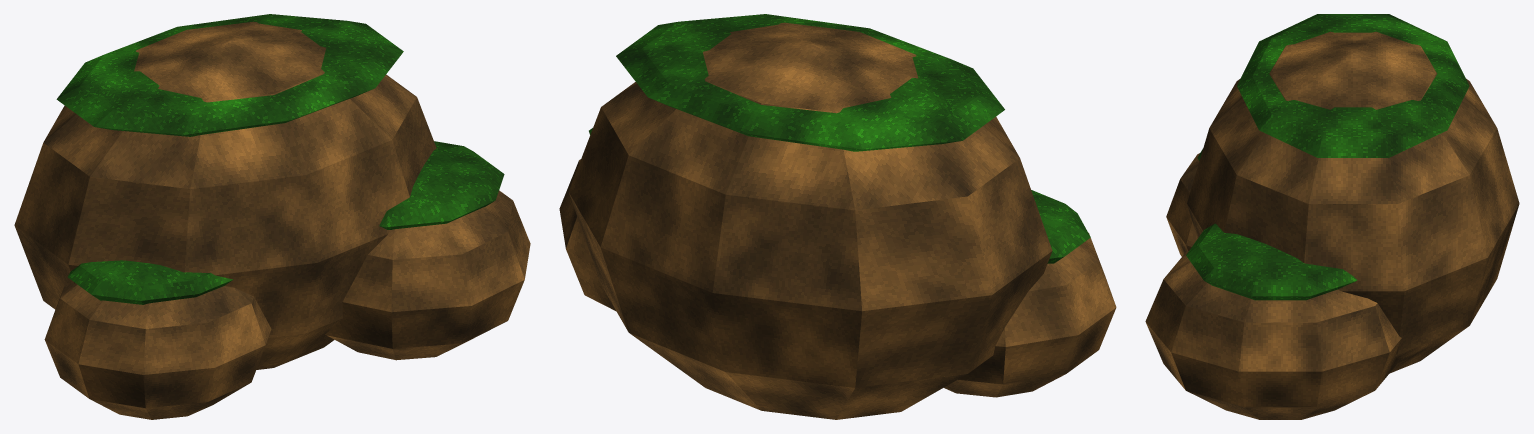
File: moss_rock.glb
The picture shows the model from 3 angles, left to right: view 1: azimuth 30°, elevation 25°; view 2: azimuth 150°, elevation 25°; view 3: azimuth 270°, elevation 25°; orthographic projection. The views are drawn at different scales.
Parts seen in each view (by area): view 1: Body; view 2: Body; view 3: Body.
Part boxes in pixels (x1,y1,x2,y2): Body: (14, 14, 530, 419); Body: (559, 14, 1116, 419); Body: (1145, 14, 1519, 419).
Size of the model in its own units: 2.39 by 1.6 by 1.8.
Materials: 2 (2 with a texture image).
